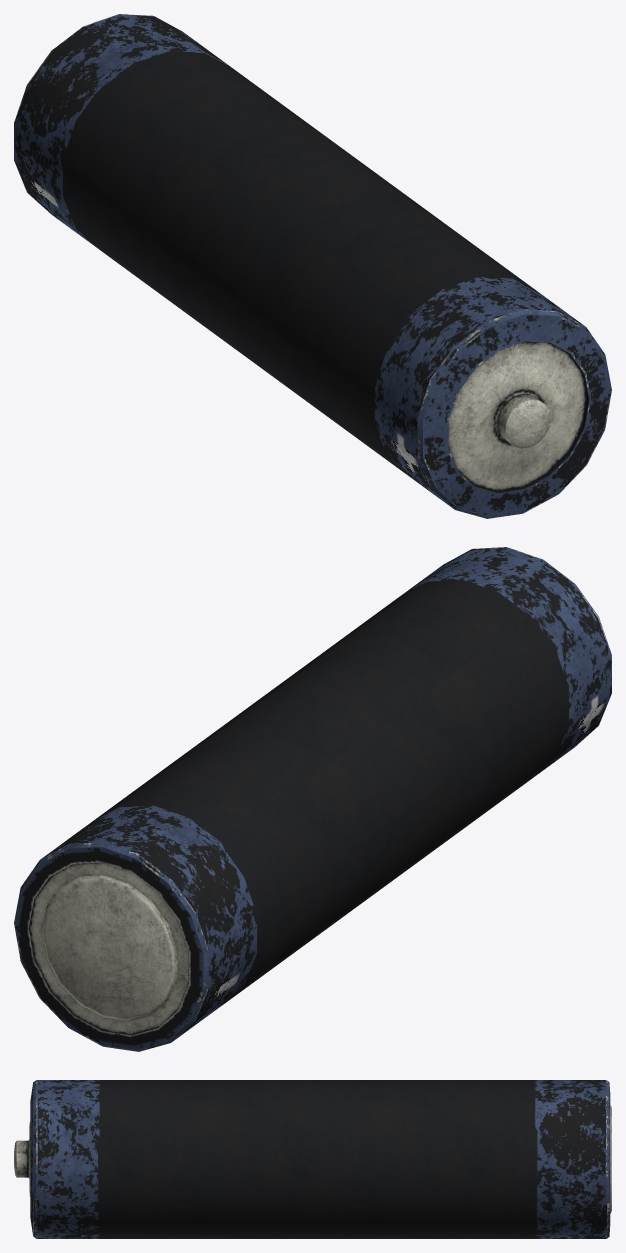
The model's file is battery 1.fbx.
The picture shows the model from 3 angles, top to bottom: view 1: azimuth 30°, elevation 25°; view 2: azimuth 150°, elevation 25°; view 3: azimuth 270°, elevation 25°; orthographic projection. The views are drawn at different scales.
Visible parts, largest first — view 1: Cylinder001; view 2: Cylinder001; view 3: Cylinder001.
Boxes of the visible parts, box(x1,y1,x2,y2) form: Cylinder001: box(14, 14, 611, 518); Cylinder001: box(14, 547, 611, 1051); Cylinder001: box(14, 1080, 611, 1238).
Bounding box in the file's own units: 10.59 × 10.64 × 40.
